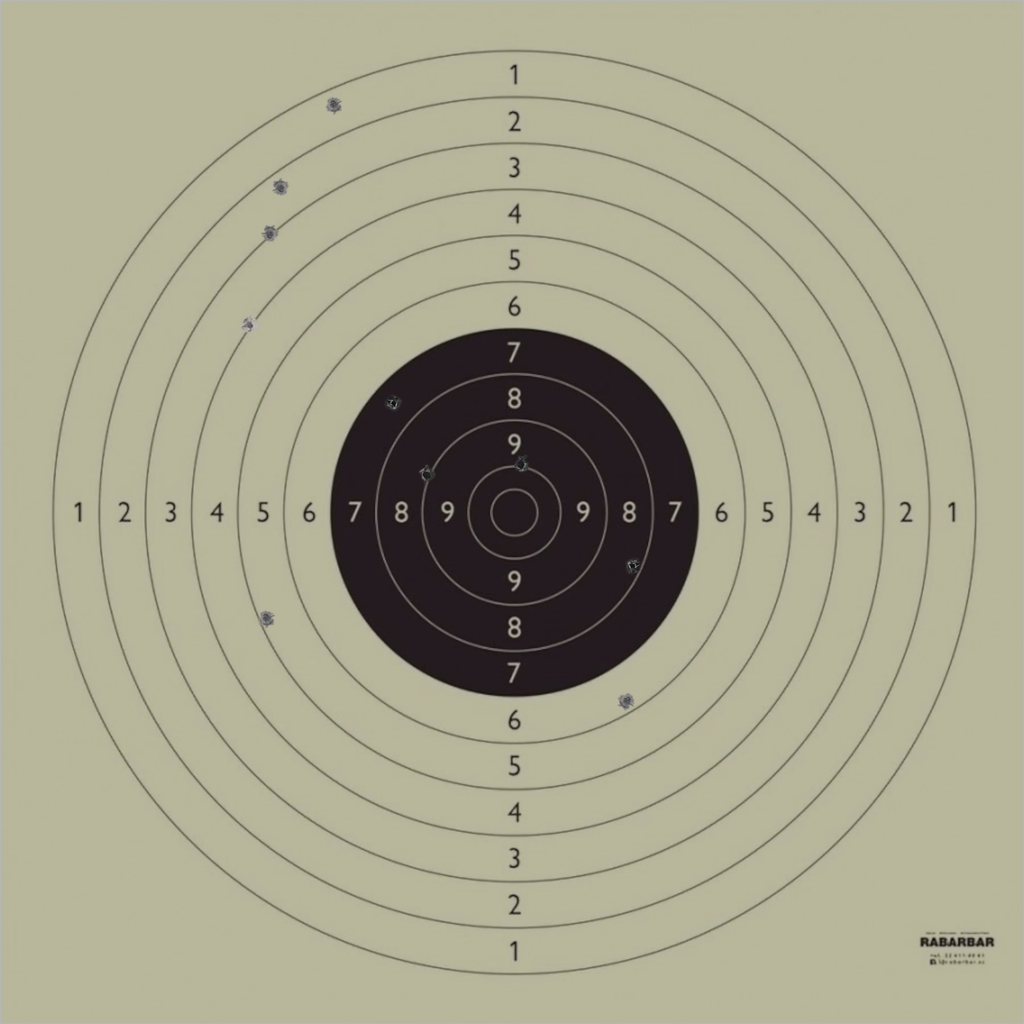0 punktow: (856, 32, 874, 51)
1 punkt: (325, 95, 343, 114)
10 punktow: (512, 455, 530, 474)
2 punkty: (271, 179, 290, 197)
3 punkty: (261, 225, 279, 243)
4 punkty: (240, 316, 259, 334)
5 punktow: (257, 609, 276, 627)
6 punktow: (618, 692, 636, 710)
7 punktow: (384, 395, 403, 413)
8 punktow: (623, 557, 642, 575)
9 punktow: (417, 466, 436, 484)
